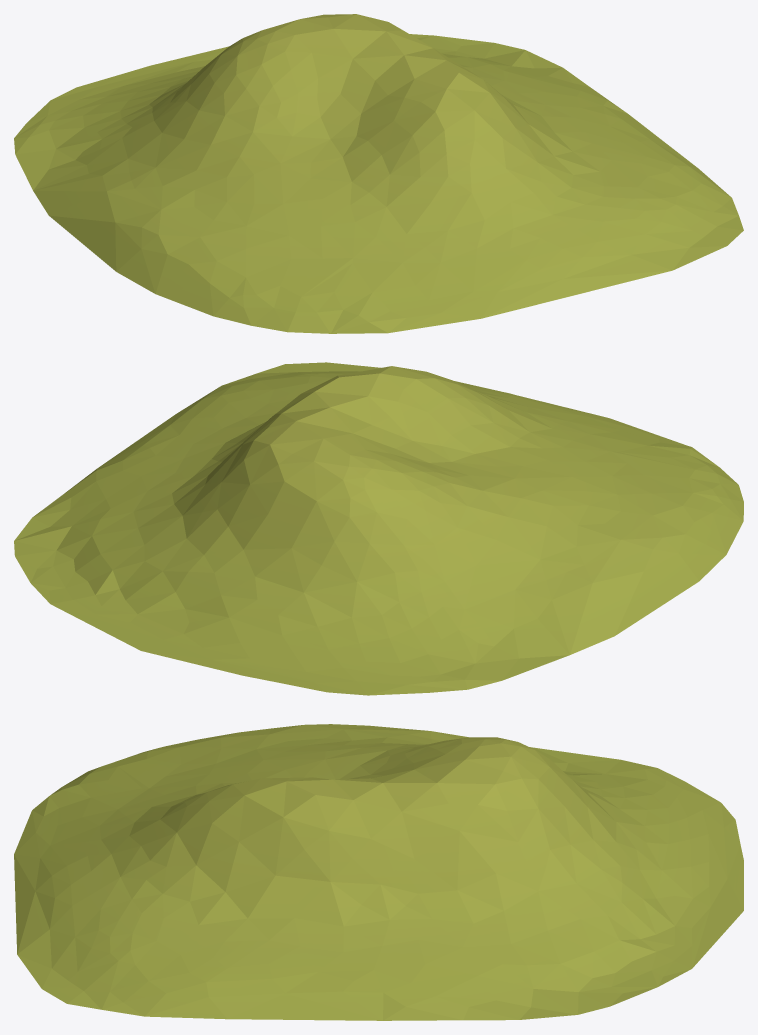
Rendered from Hill_20.glb.
The picture shows the model from 3 angles, top to bottom: view 1: azimuth 30°, elevation 25°; view 2: azimuth 150°, elevation 25°; view 3: azimuth 270°, elevation 25°; orthographic projection. The views are drawn at different scales.
Visible parts, largest first — view 1: Hill_20; view 2: Hill_20; view 3: Hill_20.
Part boxes in pixels (x1,y1,x2,y2): Hill_20: [14, 14, 743, 333]; Hill_20: [14, 362, 743, 695]; Hill_20: [14, 724, 743, 1020].
Bounding box in the file's own units: 56.1 × 11.83 × 60.91.
Materials: 1 (1 with a texture image).
